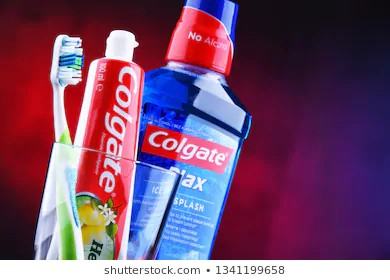colgate-Plax: (124, 1, 253, 259)
toothbrush: (45, 29, 88, 260)
